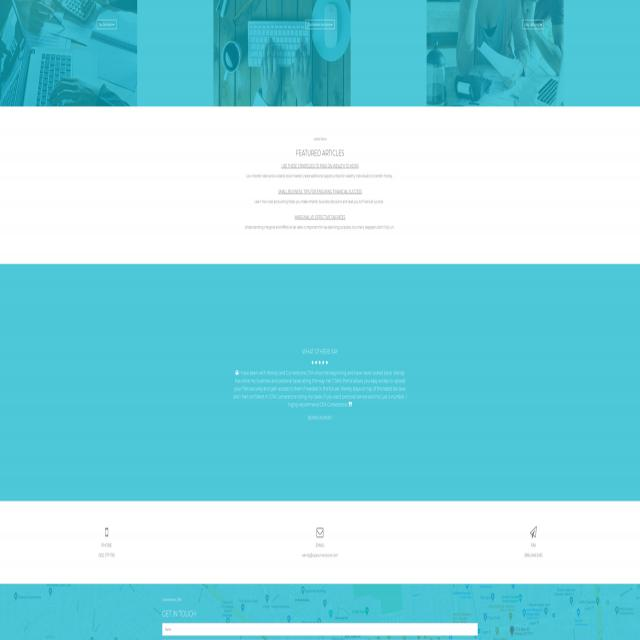button: (426, 0, 564, 107), (0, 0, 137, 107), (214, 0, 350, 107)
field: (162, 623, 478, 635)
